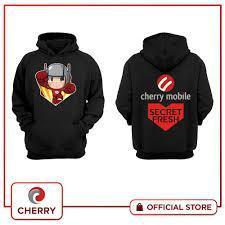sweater: (113, 31, 215, 159), (10, 31, 106, 161)
